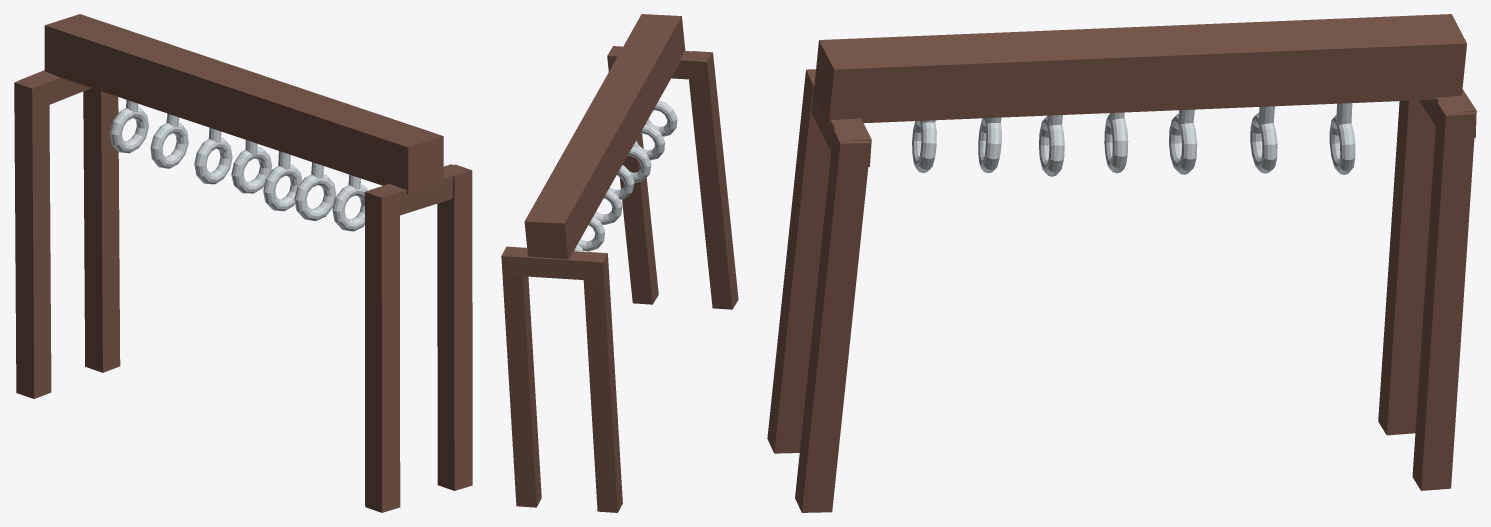
3 views of the same model, side by side, from view 1: azimuth 30°, elevation 25°; view 2: azimuth 150°, elevation 25°; view 3: azimuth 270°, elevation 25° (orthographic). The views are drawn at different scales.
Parts seen in each view (by area): view 1: mesh_38092489, mesh_675722059, mesh_518554972, mesh_1843277063, mesh_1790064326, mesh_574594394, mesh_427502330, mesh_341374953, mesh_250925874, mesh_752718220, mesh_1789850194, mesh_777702871 (+2 smaller); view 2: mesh_38092489, mesh_518554972, mesh_675722059, mesh_1790064326, mesh_1843277063, mesh_501240076, mesh_574594394, mesh_427502330, mesh_2051856065, mesh_250925874, mesh_777702871, mesh_752718220 (+1 smaller); view 3: mesh_38092489, mesh_1790064326, mesh_1843277063, mesh_675722059, mesh_518554972, mesh_250925874, mesh_574594394, mesh_752718220, mesh_777702871, mesh_341374953, mesh_1789850194, mesh_2051856065 (+2 smaller).
Boxes of the visible parts, left/top/right/bottom form: mesh_38092489: left=44, top=14, right=443, bottom=194; mesh_675722059: left=14, top=79, right=51, bottom=398; mesh_518554972: left=364, top=189, right=400, bottom=512; mesh_1843277063: left=437, top=164, right=472, bottom=490; mesh_1790064326: left=83, top=88, right=120, bottom=372; mesh_574594394: left=370, top=164, right=467, bottom=215; mesh_427502330: left=294, top=174, right=336, bottom=220; mesh_341374953: left=110, top=107, right=148, bottom=153; mesh_250925874: left=194, top=137, right=232, bottom=184; mesh_752718220: left=150, top=122, right=188, bottom=168; mesh_1789850194: left=231, top=147, right=272, bottom=193; mesh_777702871: left=263, top=164, right=302, bottom=211; mesh_38092489: left=524, top=14, right=685, bottom=259; mesh_518554972: left=689, top=51, right=738, bottom=309; mesh_675722059: left=583, top=252, right=622, bottom=512; mesh_1790064326: left=501, top=246, right=541, bottom=507; mesh_1843277063: left=607, top=46, right=658, bottom=304; mesh_501240076: left=504, top=247, right=599, bottom=280; mesh_574594394: left=610, top=47, right=703, bottom=80; mesh_427502330: left=633, top=124, right=664, bottom=160; mesh_2051856065: left=646, top=101, right=677, bottom=136; mesh_250925874: left=594, top=189, right=622, bottom=224; mesh_777702871: left=617, top=146, right=651, bottom=182; mesh_752718220: left=578, top=216, right=604, bottom=251; mesh_38092489: left=813, top=14, right=1466, bottom=124; mesh_1790064326: left=1412, top=102, right=1475, bottom=490; mesh_1843277063: left=795, top=129, right=870, bottom=512; mesh_675722059: left=1378, top=100, right=1435, bottom=435; mesh_518554972: left=767, top=69, right=830, bottom=453; mesh_250925874: left=1169, top=113, right=1197, bottom=174; mesh_574594394: left=811, top=84, right=871, bottom=166; mesh_752718220: left=1250, top=112, right=1277, bottom=173; mesh_777702871: left=1039, top=116, right=1064, bottom=176; mesh_341374953: left=1329, top=114, right=1355, bottom=174; mesh_1789850194: left=1104, top=115, right=1128, bottom=173; mesh_2051856065: left=912, top=121, right=936, bottom=172.
Bounding box in the file's own units: 21.49 × 34.07 × 45.39.
